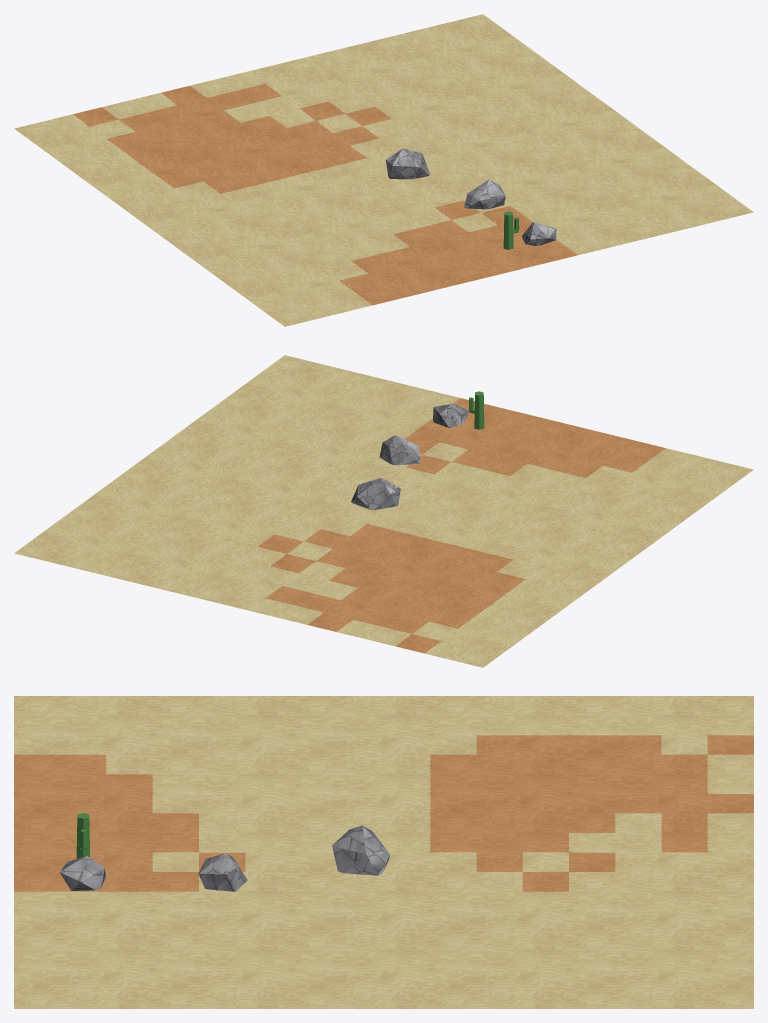
The model's file is chunk_11_21.glb.
3 views of the same model, one above another, from view 1: azimuth 30°, elevation 25°; view 2: azimuth 150°, elevation 25°; view 3: azimuth 270°, elevation 25° (orthographic). The views are drawn at different scales.
Parts seen in each view (by area): view 1: chunk_11_21; view 2: chunk_11_21; view 3: chunk_11_21.
Part boxes in pixels (x1,y1,x2,y2): chunk_11_21: (14, 14, 753, 326); chunk_11_21: (14, 355, 753, 667); chunk_11_21: (14, 696, 753, 1008).
Bounding box in the file's own units: 16 × 1.51 × 16.
Materials: 4 (3 with a texture image).
